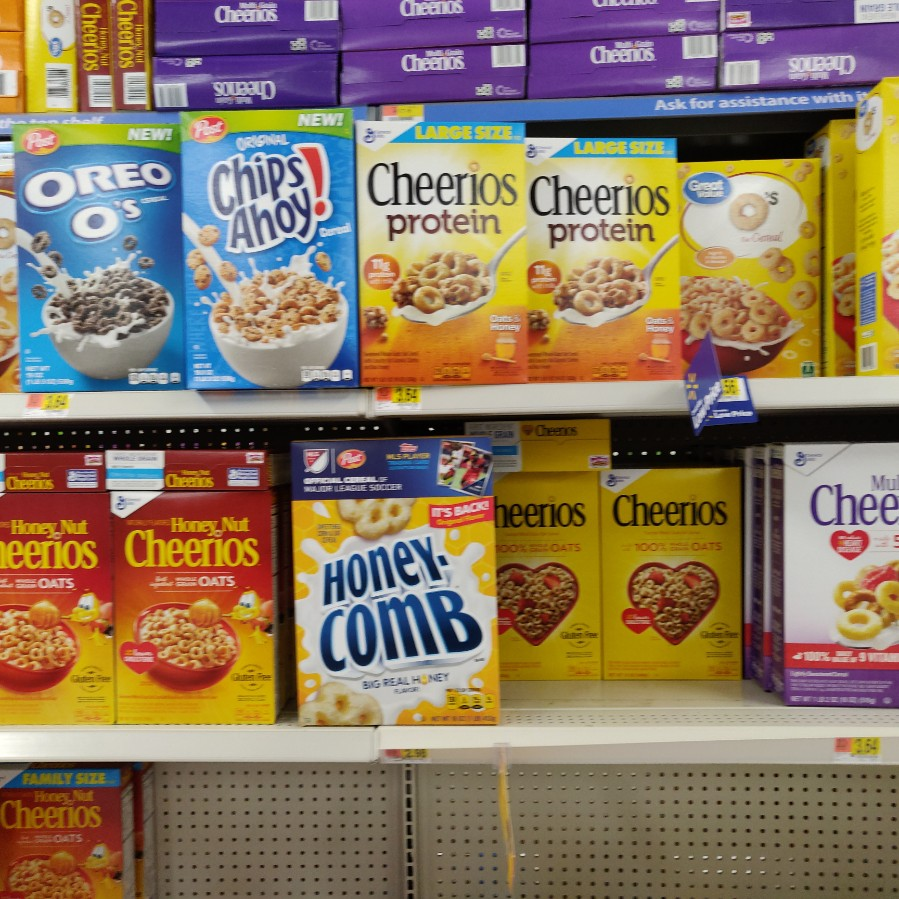Chips Ahoys-565717529: (180, 108, 365, 386)
Honey Comb- 009288857: (292, 442, 495, 721)
Oreo-563424384: (10, 127, 187, 387)
